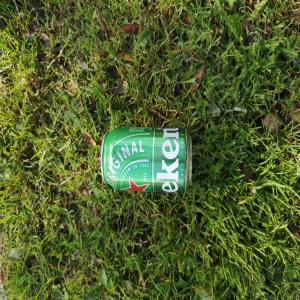Can: (101, 126, 194, 196)
